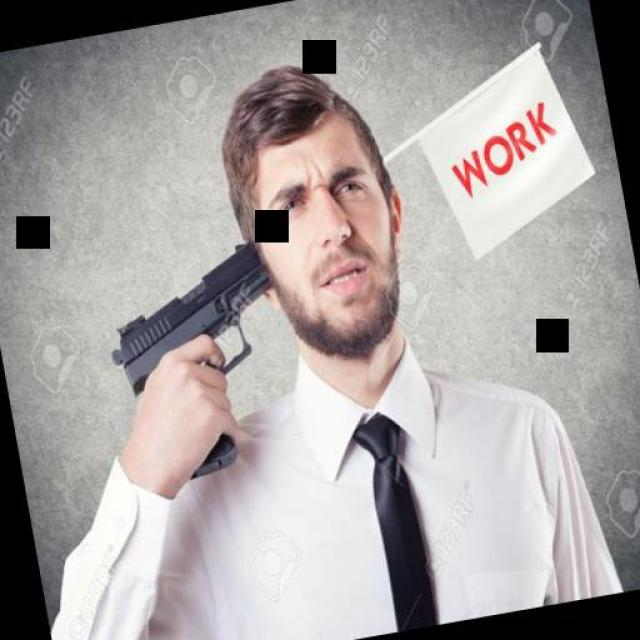gun: (92, 234, 298, 494)
